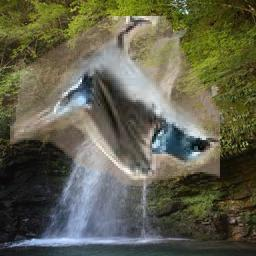Swallow: (10, 16, 220, 186)
